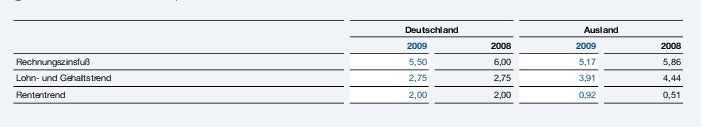table: (0, 0, 701, 127)
